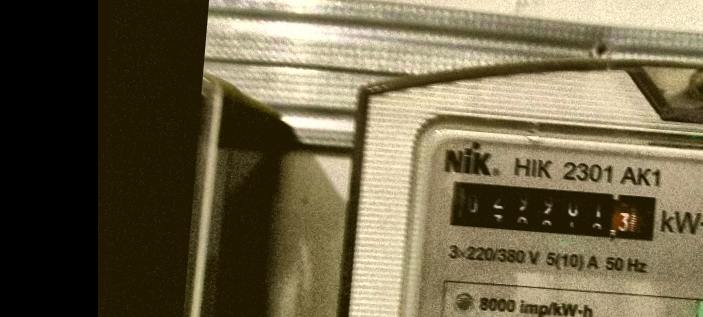0: (566, 192, 582, 218), (465, 191, 483, 213)
1: (591, 195, 606, 219)
2: (490, 190, 508, 210)
3: (617, 208, 632, 231)
9: (541, 192, 557, 215), (516, 190, 530, 213)
screen: (437, 169, 669, 251)
